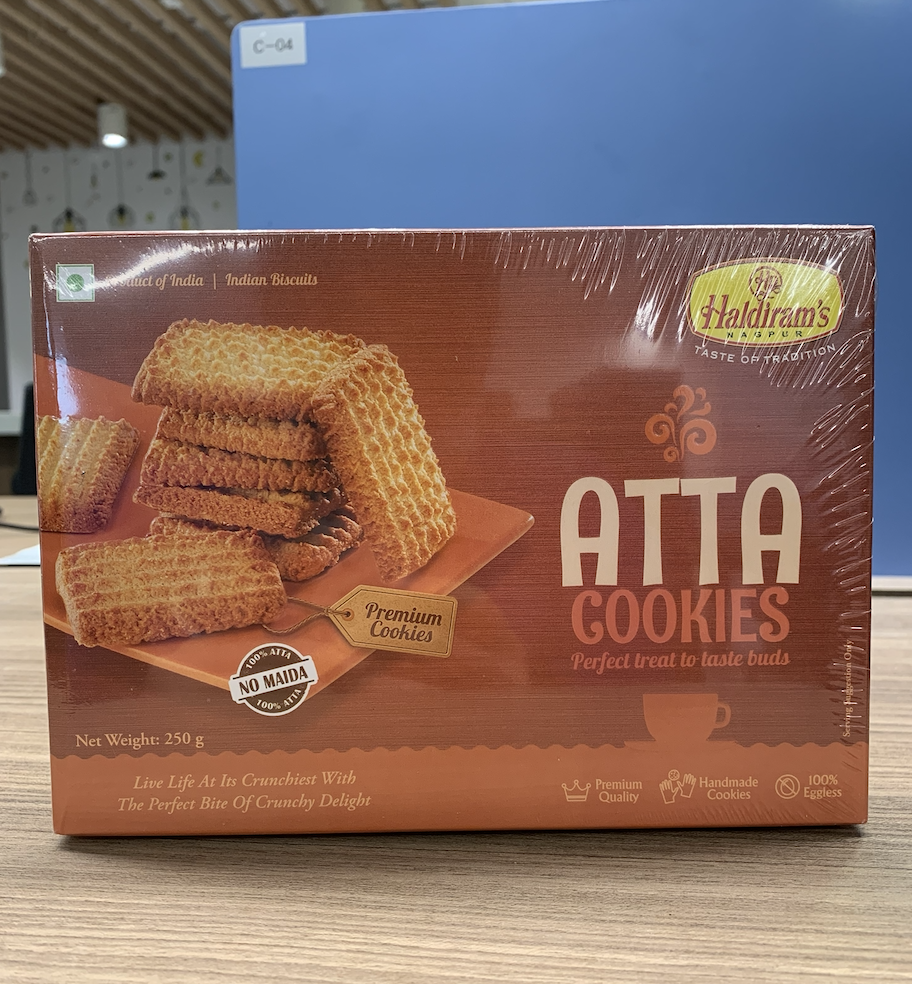cookies_150g: (50, 235, 861, 813)
